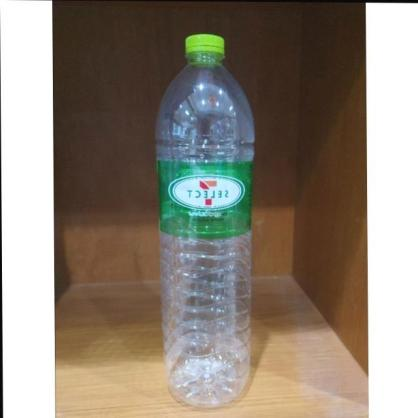bottle: (155, 33, 257, 411)
cap: (183, 36, 225, 62)
label: (160, 159, 256, 242)
